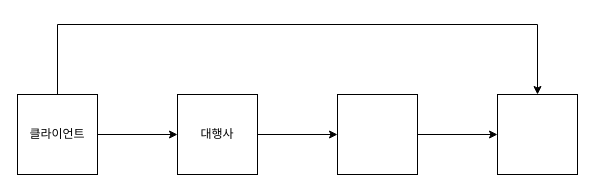
The diagram is 595 pixels wide and 192 high, and some of its shapes have lost their labels. The centre of each missing label's shape, as x and y in pixels:
"매체 (미디어)" goes at (537,134).
"미디어렙사 (광고업무대행)" goes at (377,134).
